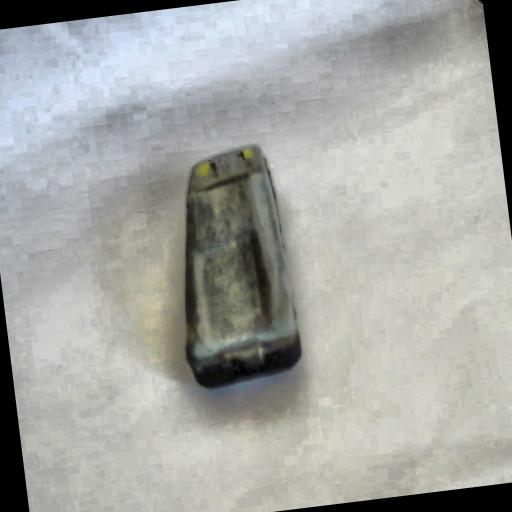normal_car: (158, 138, 309, 395)
